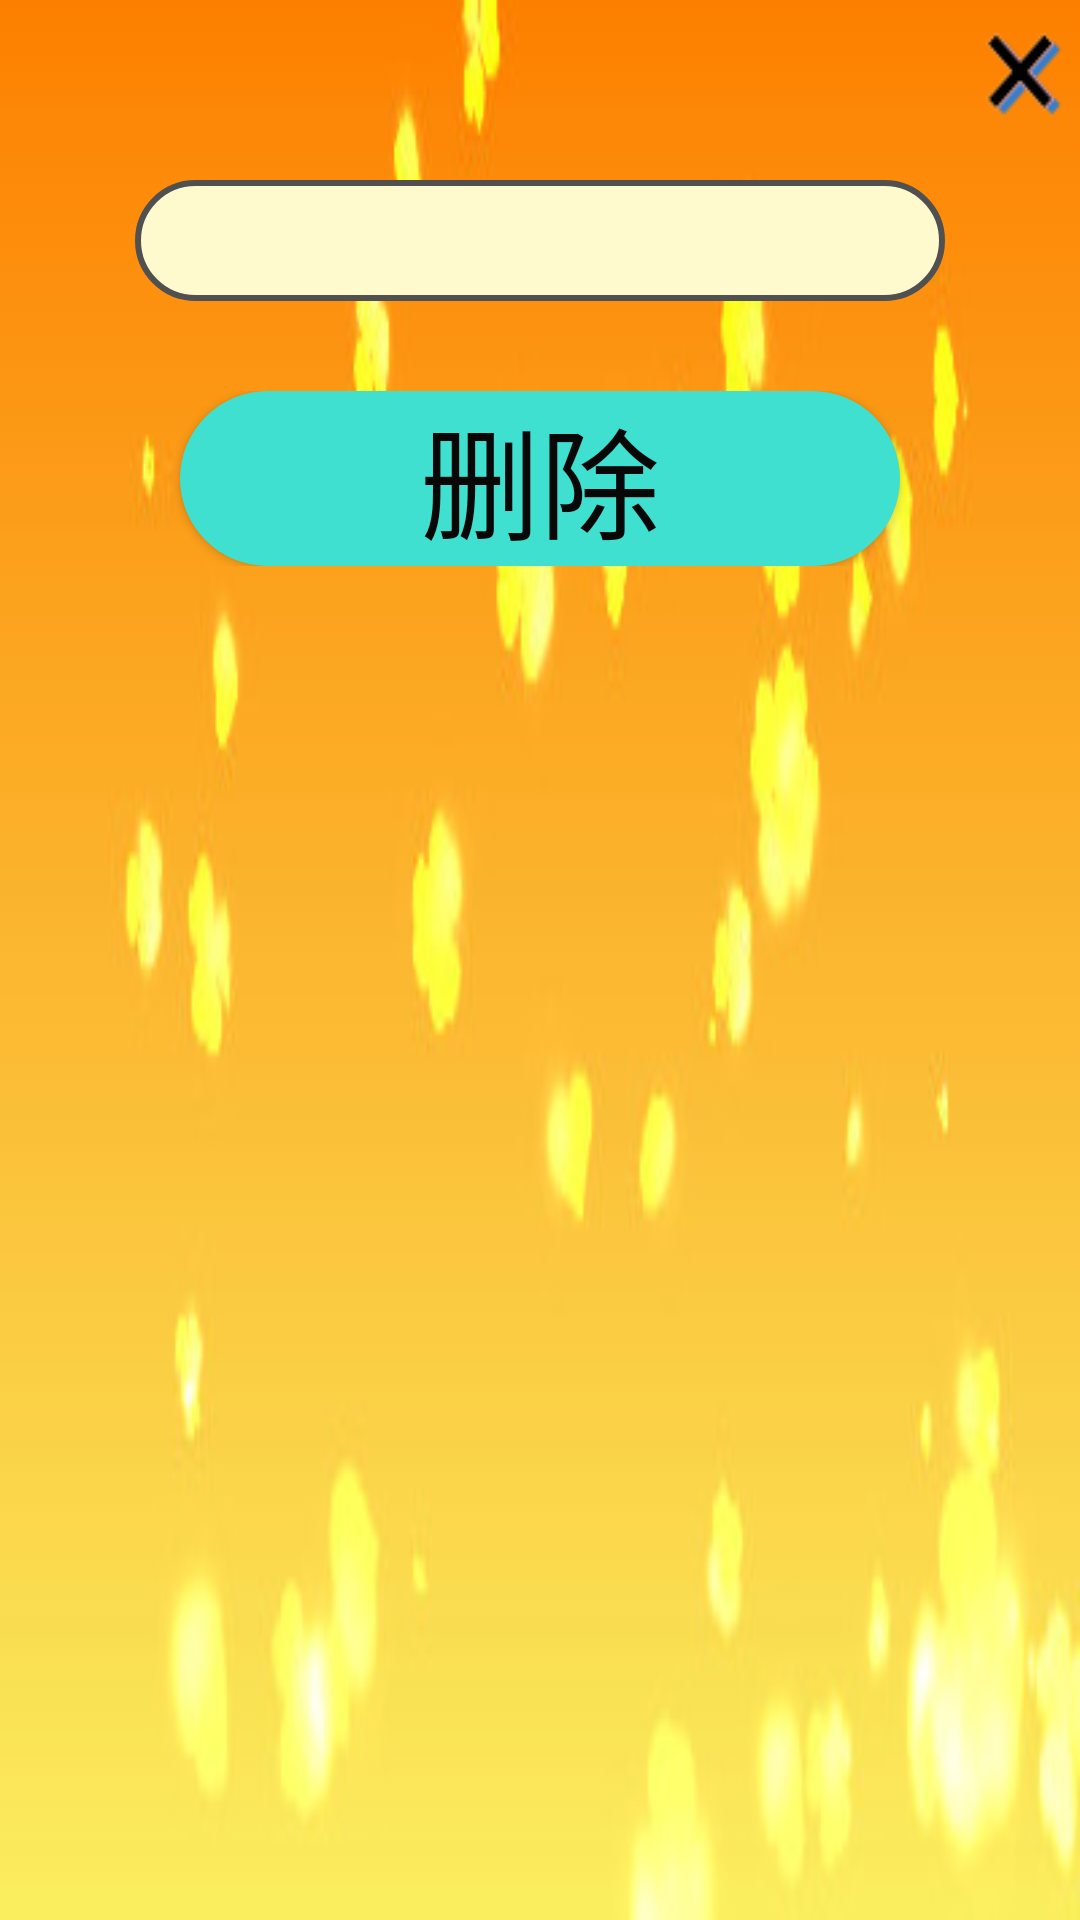

Screen size 1080px×1920px. Icon name, then its center in pixels as (x,y):
closeit: (1024,74)
